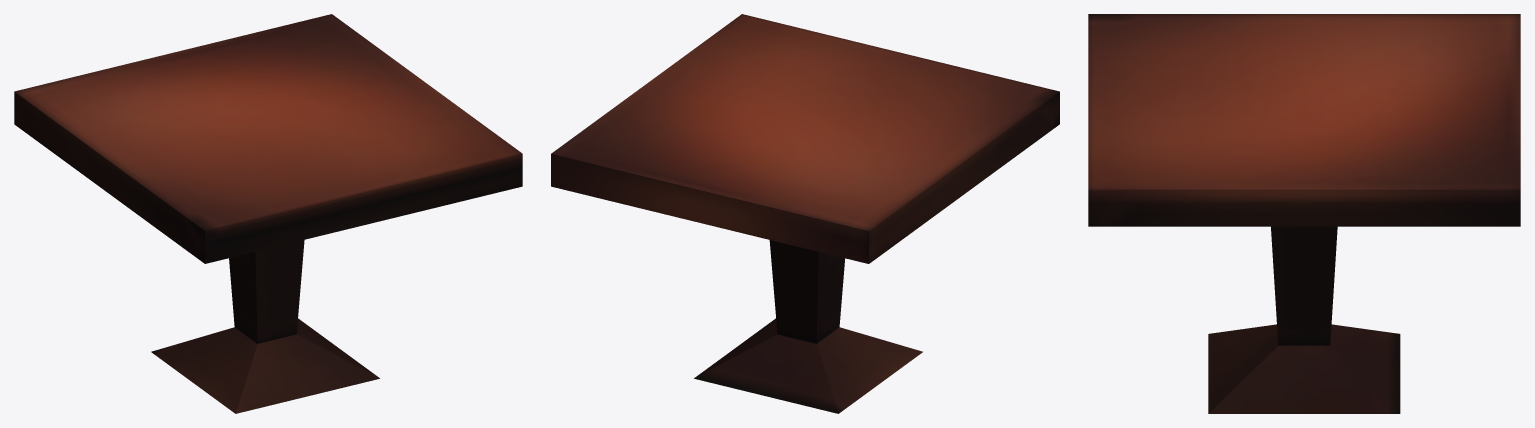
File: Tx_props_table_9.fbx
The picture shows the model from 3 angles, left to right: view 1: azimuth 30°, elevation 25°; view 2: azimuth 150°, elevation 25°; view 3: azimuth 270°, elevation 25°; orthographic projection. The views are drawn at different scales.
Visible parts, largest first — view 1: polySurface77, polySurface82; view 2: polySurface77, polySurface82; view 3: polySurface77, polySurface82.
Boxes of the visible parts, x1,y1,x2,y2 form: polySurface77: [14, 14, 522, 263]; polySurface82: [151, 240, 379, 413]; polySurface77: [551, 14, 1059, 263]; polySurface82: [694, 240, 922, 413]; polySurface77: [1088, 14, 1520, 226]; polySurface82: [1208, 226, 1400, 413].
Size of the model in its own units: 3.94 by 2.87 by 4.1.
